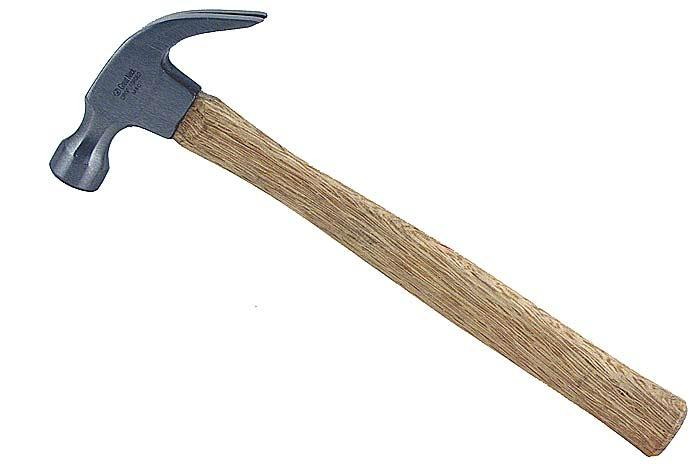hammer: (45, 3, 690, 458)
